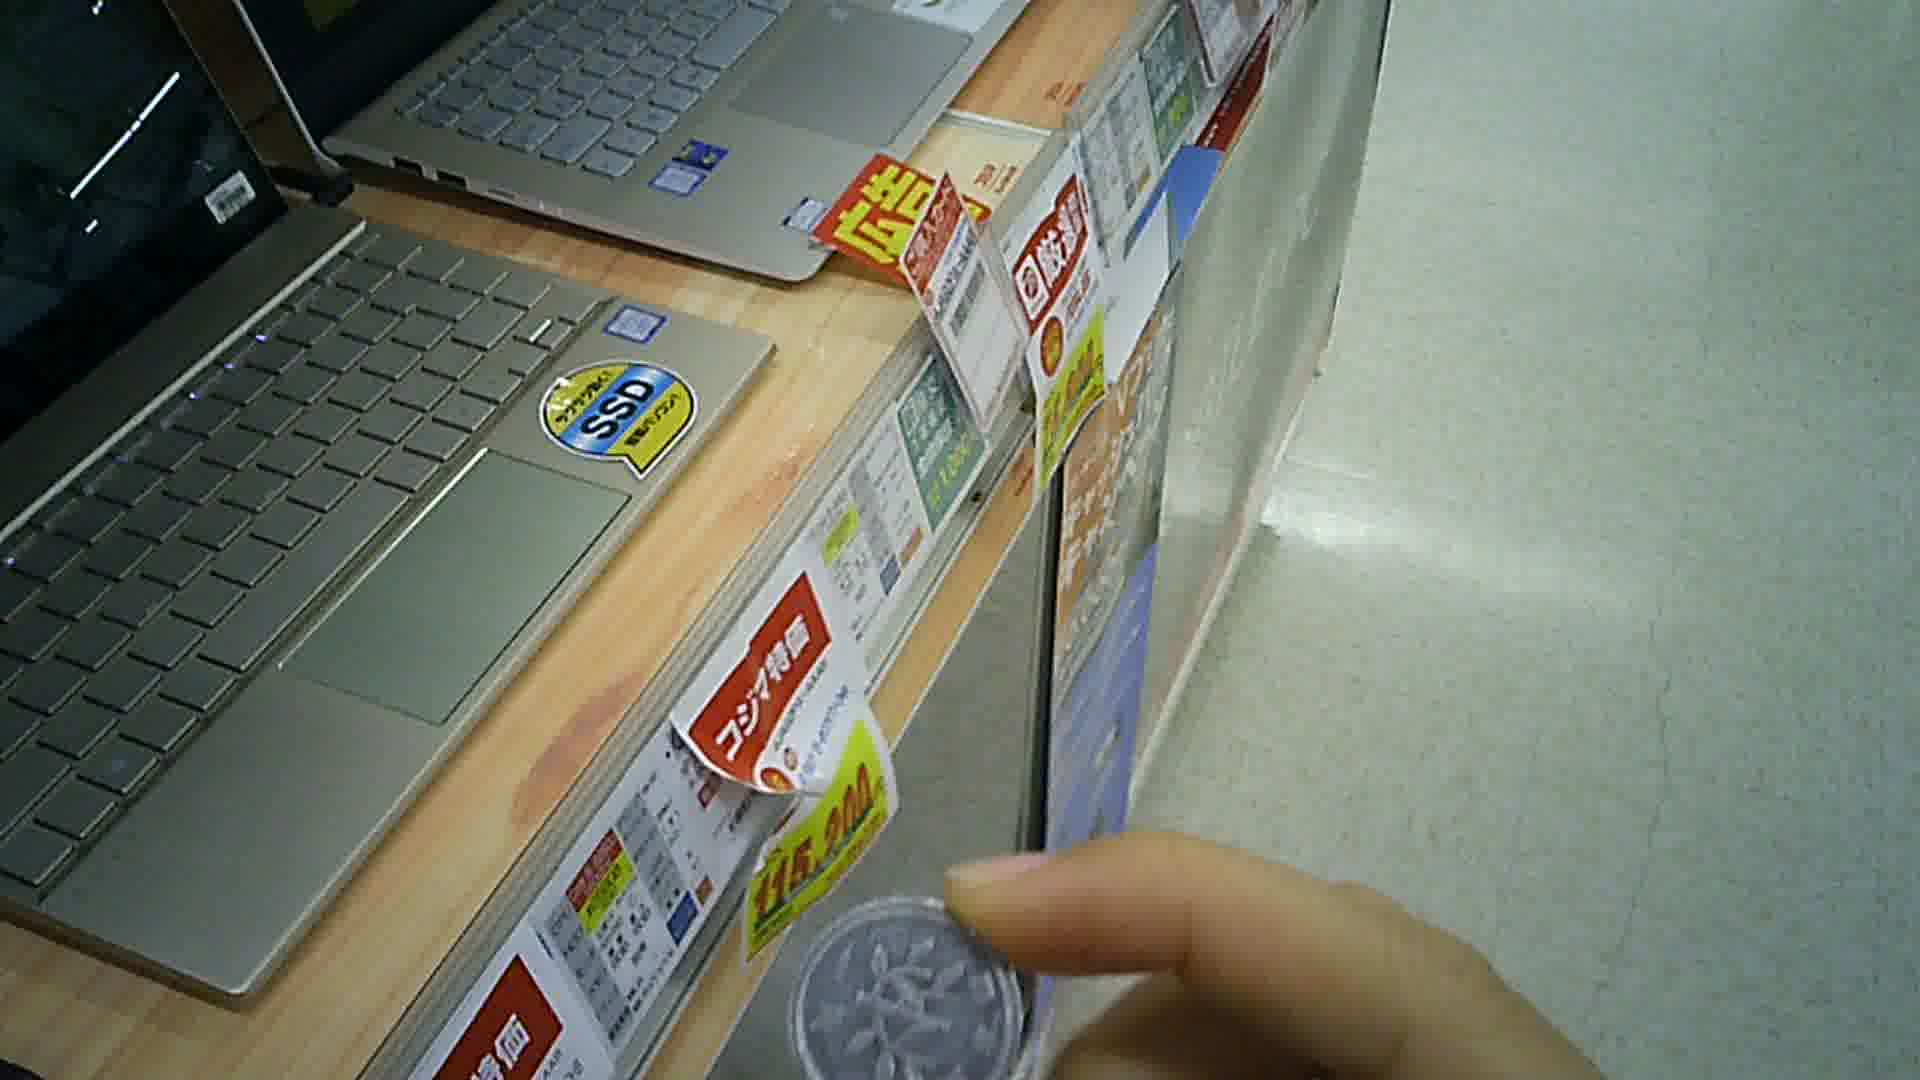1 Yen: (781, 890, 1044, 1072)
